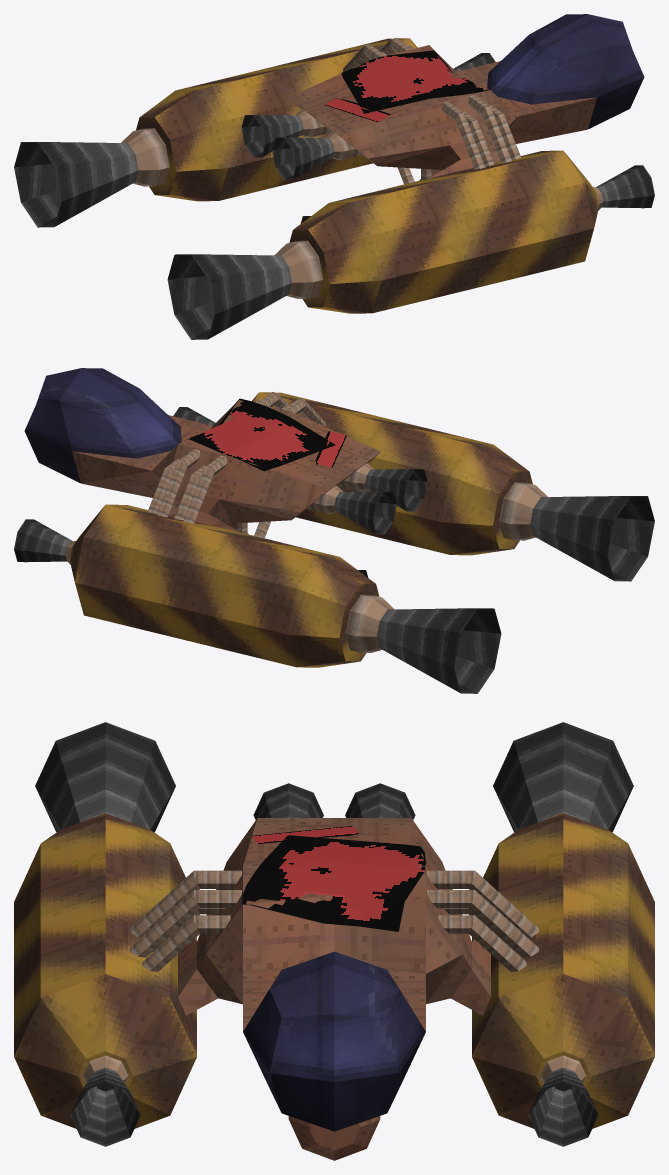
The model's file is Ship.obj.
3 renders of one model, top to bottom at view 1: azimuth 30°, elevation 25°; view 2: azimuth 150°, elevation 25°; view 3: azimuth 270°, elevation 25°, orthographic. The views are drawn at different scales.
Visible parts, largest first — view 1: Cylinder.004, Cylinder.003, Cube, Roundcube, Cylinder, Cylinder.001, anarachy, Cylinder.007, Cylinder.005, Cylinder.009, Elbow_Joint.002, Elbow_Joint.003 (+2 smaller); view 2: Cylinder.003, Cylinder.004, Cube, Roundcube, Cylinder, Cylinder.001, anarachy, Cylinder.005, Cylinder.007, Cylinder.008, Elbow_Joint, Elbow_Joint.001 (+2 smaller); view 3: Cylinder.003, Cylinder.004, Cube, Roundcube, anarachy, Cylinder, Cylinder.001, Cylinder.008, Cylinder.009, Elbow_Joint, Elbow_Joint.002, Cylinder.006 (+5 smaller).
Boxes of the visible parts, bbox=[...] form: Cylinder.004: bbox=[289, 150, 598, 313]; Cylinder.003: bbox=[136, 38, 417, 201]; Cube: bbox=[288, 45, 596, 178]; Roundcube: bbox=[487, 14, 644, 129]; Cylinder: bbox=[14, 128, 169, 227]; Cylinder.001: bbox=[167, 240, 323, 339]; anarachy: bbox=[341, 50, 490, 113]; Cylinder.007: bbox=[272, 132, 362, 180]; Cylinder.005: bbox=[241, 109, 331, 157]; Cylinder.009: bbox=[593, 165, 654, 210]; Elbow_Joint.002: bbox=[441, 95, 511, 169]; Elbow_Joint.003: bbox=[463, 105, 521, 166]; Cylinder.003: bbox=[70, 504, 379, 667]; Cylinder.004: bbox=[252, 392, 532, 555]; Cube: bbox=[72, 400, 380, 532]; Roundcube: bbox=[24, 368, 181, 483]; Cylinder: bbox=[345, 594, 501, 693]; Cylinder.001: bbox=[499, 482, 654, 581]; anarachy: bbox=[187, 398, 335, 471]; Cylinder.005: bbox=[306, 486, 396, 534]; Cylinder.007: bbox=[337, 463, 427, 511]; Cylinder.008: bbox=[14, 519, 75, 564]; Elbow_Joint: bbox=[157, 449, 227, 523]; Elbow_Joint.001: bbox=[147, 459, 205, 520]; Cylinder.003: bbox=[472, 813, 654, 1128]; Cylinder.004: bbox=[14, 813, 196, 1128]; Cube: bbox=[178, 818, 490, 1031]; Roundcube: bbox=[243, 951, 425, 1131]; anarachy: bbox=[242, 835, 425, 931]; Cylinder: bbox=[493, 722, 633, 832]; Cylinder.001: bbox=[35, 722, 175, 832]; Cylinder.008: bbox=[528, 1055, 598, 1146]; Cylinder.009: bbox=[70, 1055, 140, 1146]; Elbow_Joint: bbox=[427, 870, 538, 957]; Elbow_Joint.002: bbox=[130, 870, 241, 957]; Cylinder.006: bbox=[288, 1116, 380, 1160].
Bounding box in the file's own units: 9.8 × 3.3 × 7.
